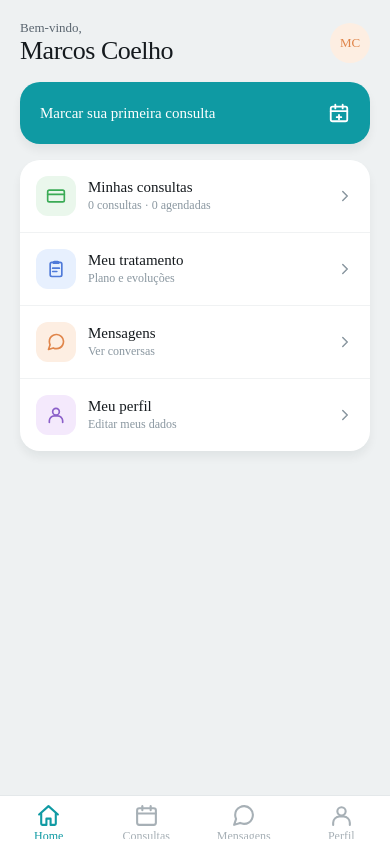
Navegação do paciente › "Alterar Senha" abre a tela de troca de senha
Step 1. Click the button with test id "paciente-avatar" → [350, 43], box left=330, top=23, right=370, bottom=63
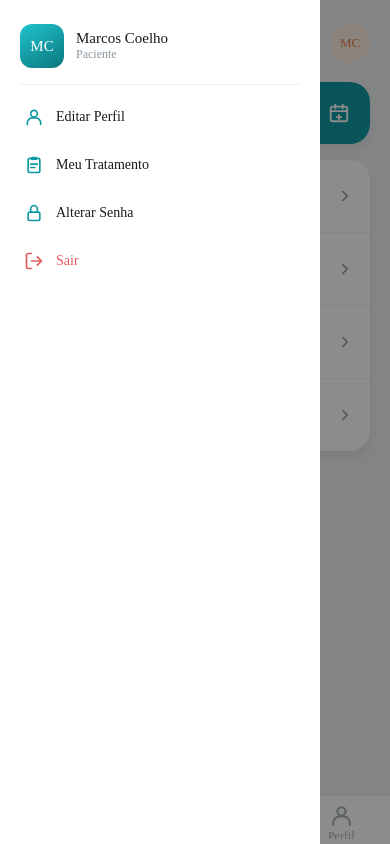
Step 2. Click the button with test id "menu-alterar-senha" → [95, 212], box left=20, top=189, right=300, bottom=237
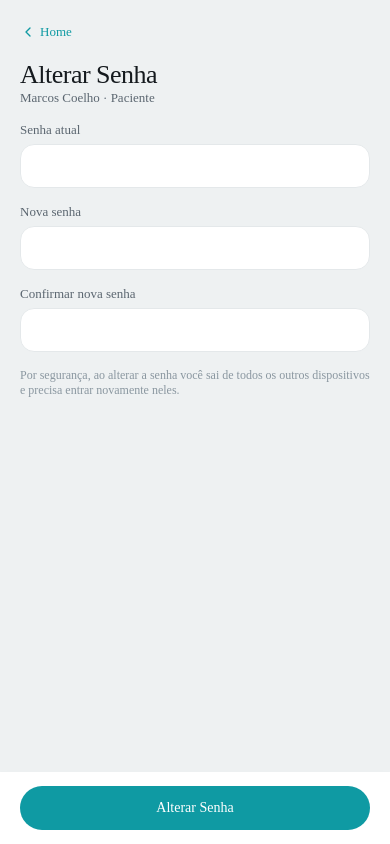
Expected: the heading "Alterar Senha" is shown, left=20, top=60, right=157, bottom=89
Expected: the text "Marcos Coelho · Paciente" is shown, left=20, top=90, right=155, bottom=105
